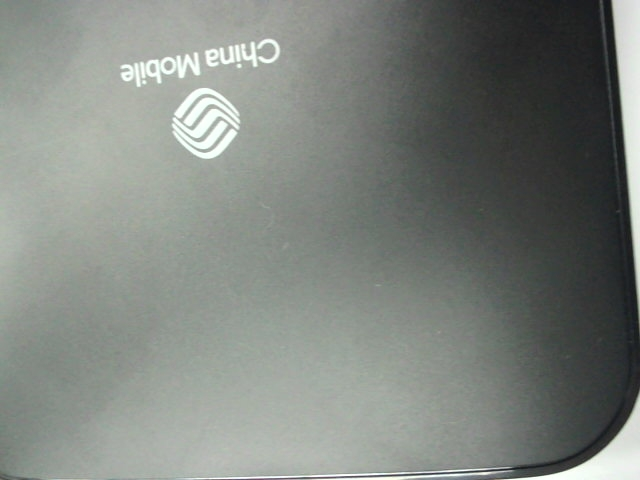AA_ChinaMobile: (106, 33, 308, 163)
